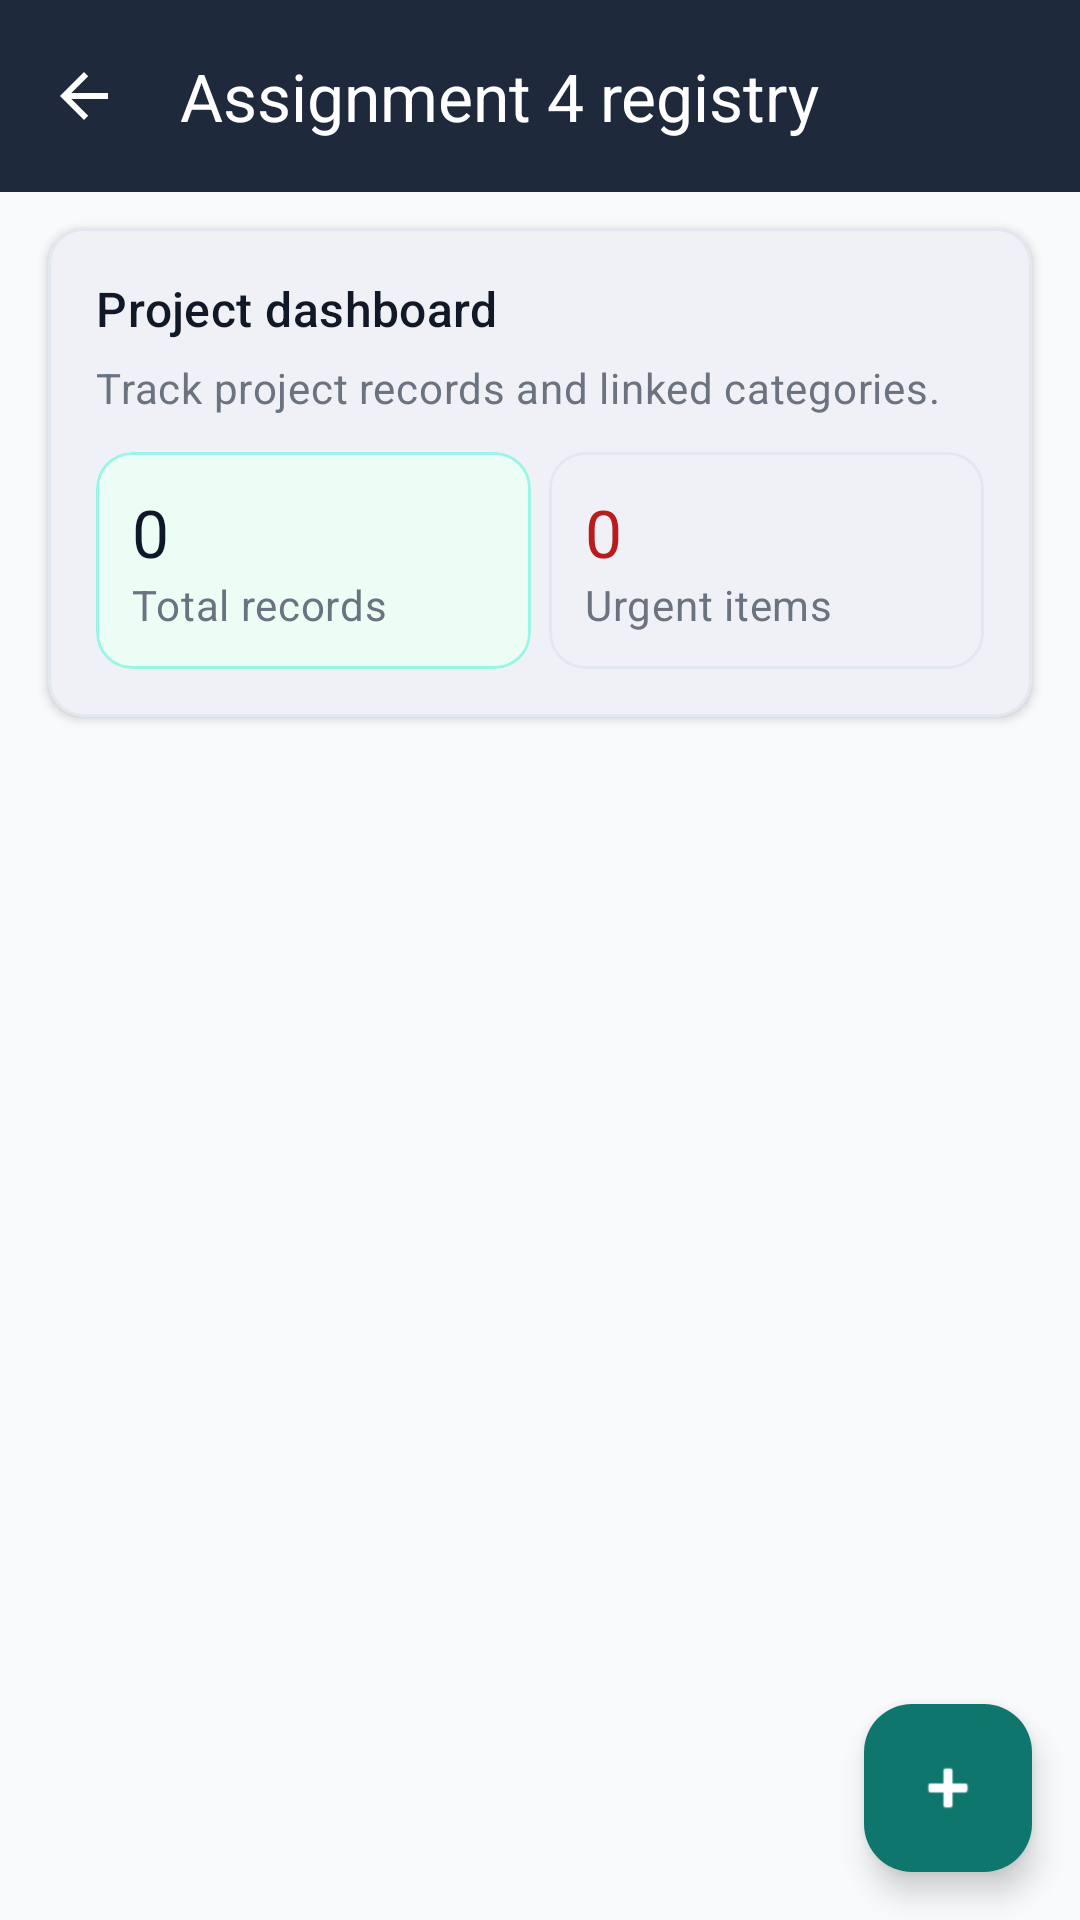

Where to tap for icons on this 1080px×1920px app screen, as (x=x, y=y):
Add project record: (x=948, y=1788)
